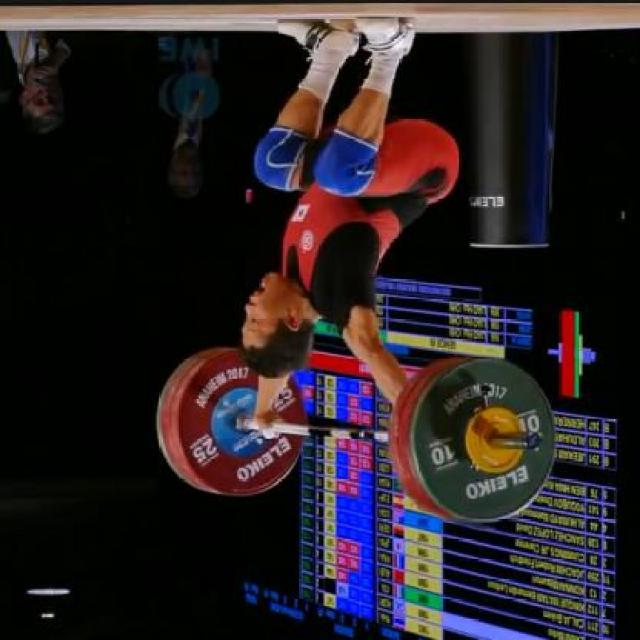Barbell: (478, 420, 551, 460)
